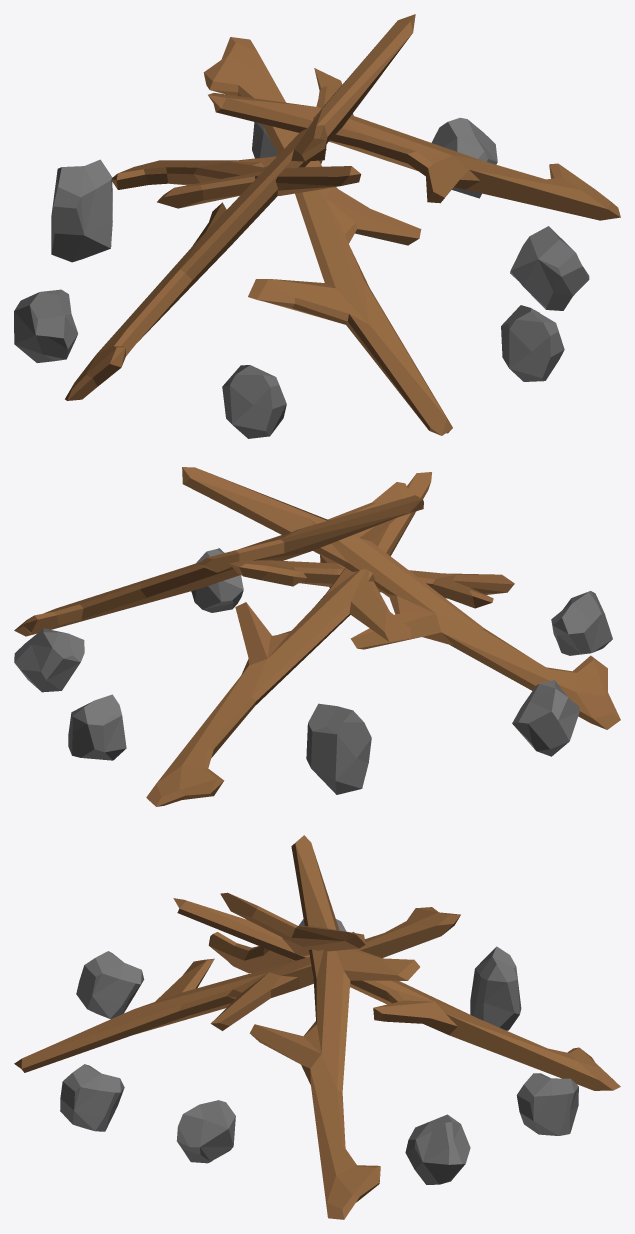
Rendered from campfire.fbx.
3 renders of one model, top to bottom at view 1: azimuth 30°, elevation 25°; view 2: azimuth 150°, elevation 25°; view 3: azimuth 270°, elevation 25°, orthographic. The views are drawn at different scales.
Parts seen in each view (by area): view 1: Stick, Stick.002, Stick.003, Stick.001, Cube.010, Cube.003, Cube.008, Cube.004, Cube.006, Cube.001, Cube.002; view 2: Stick.002, Stick.001, Stick.003, Cube.010, Stick, Cube.008, Cube.001, Cube.002, Cube.006, Cube.003; view 3: Stick.003, Stick, Stick.001, Stick.002, Cube.001, Cube.010, Cube.004, Cube.002, Cube.006, Cube.003.
Part boxes in pixels (box(x1,y1,x2,y2)): Stick: box(203, 37, 452, 435); Stick.002: box(65, 14, 415, 400); Stick.003: box(208, 68, 620, 220); Stick.001: box(112, 149, 361, 208); Cube.010: box(51, 159, 112, 262); Cube.003: box(510, 226, 589, 310); Cube.008: box(14, 289, 78, 362); Cube.004: box(501, 305, 564, 381); Cube.006: box(222, 365, 286, 438); Cube.001: box(431, 117, 497, 198); Cube.002: box(252, 122, 277, 158); Stick.002: box(182, 467, 620, 729); Stick.001: box(146, 472, 431, 806); Stick.003: box(14, 495, 423, 636); Cube.010: box(306, 703, 371, 794); Stick: box(229, 555, 514, 608); Cube.008: box(512, 680, 579, 756); Cube.001: box(14, 628, 84, 692); Cube.002: box(68, 694, 126, 760); Cube.006: box(551, 591, 612, 655); Cube.003: box(191, 548, 243, 612); Stick.003: box(249, 835, 419, 1219); Stick: box(14, 907, 460, 1072); Stick.001: box(173, 898, 620, 1090); Stick.002: box(208, 892, 365, 973); Cube.001: box(405, 1114, 470, 1184); Cube.010: box(470, 946, 521, 1030); Cube.004: box(60, 1064, 124, 1131); Cube.002: box(516, 1073, 578, 1135); Cube.006: box(76, 951, 144, 1018); Cube.003: box(176, 1100, 235, 1163).
Bounding box in the file's own units: 639 × 240 × 636.
